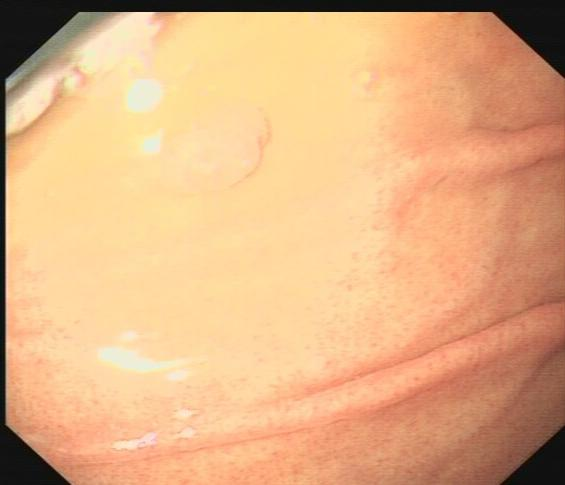Polyp: (159, 103, 272, 195)
